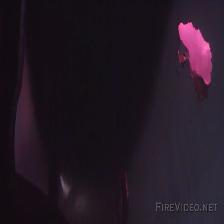nofire: (163, 21, 224, 124)
